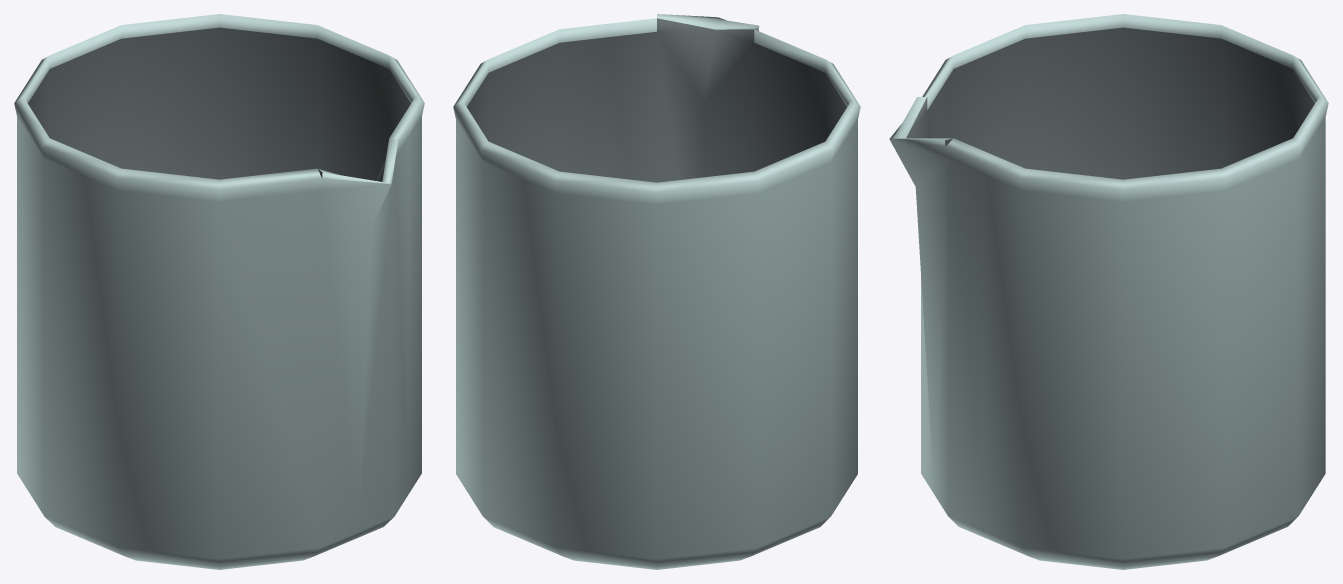
The model's file is Bequer.fbx.
3 views of the same model, side by side, from view 1: azimuth 30°, elevation 25°; view 2: azimuth 150°, elevation 25°; view 3: azimuth 270°, elevation 25° (orthographic).
Visible parts, largest first — view 1: Bequer; view 2: Bequer; view 3: Bequer.
Boxes of the visible parts, x1=… form: Bequer: x1=14, y1=14, x2=424, y2=569; Bequer: x1=453, y1=14, x2=860, y2=569; Bequer: x1=889, y1=14, x2=1328, y2=569.
Size of the model in its own units: 83.77 by 90.6 by 89.63.
